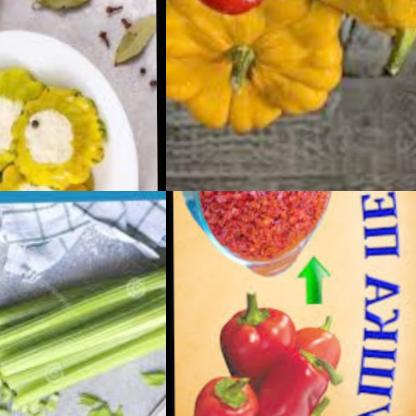bell pepper: (209, 286, 305, 391), (195, 191, 336, 260), (257, 351, 329, 416), (290, 312, 347, 386), (192, 371, 261, 416), (242, 396, 336, 416)
celery: (0, 256, 166, 414), (73, 363, 166, 416), (12, 381, 68, 416)
squash-patisson: (166, 0, 353, 149), (1, 83, 110, 191), (311, 0, 416, 64), (0, 65, 47, 171), (0, 161, 91, 191)
